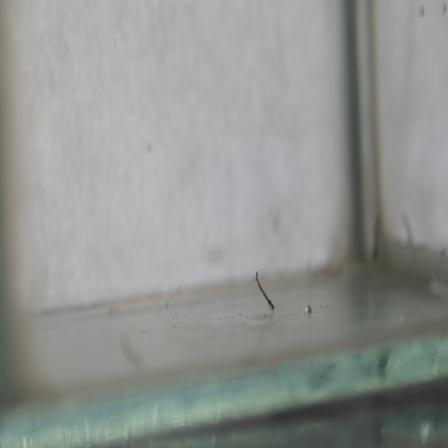Jentik-Nyamuk: (250, 264, 279, 313)
